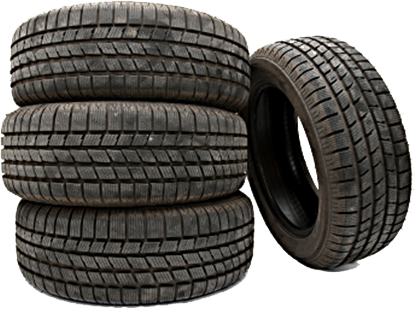tire: (243, 32, 412, 270), (11, 196, 254, 309), (3, 3, 254, 112), (1, 105, 254, 209)
